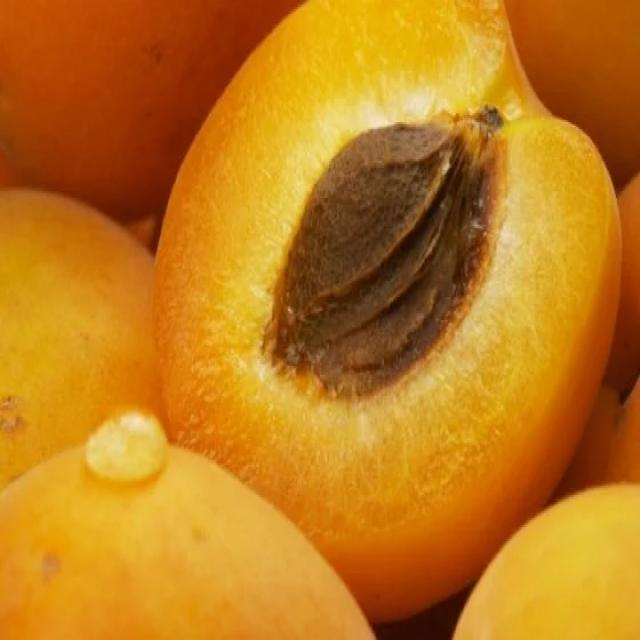Cekirdek: (265, 106, 502, 394)
